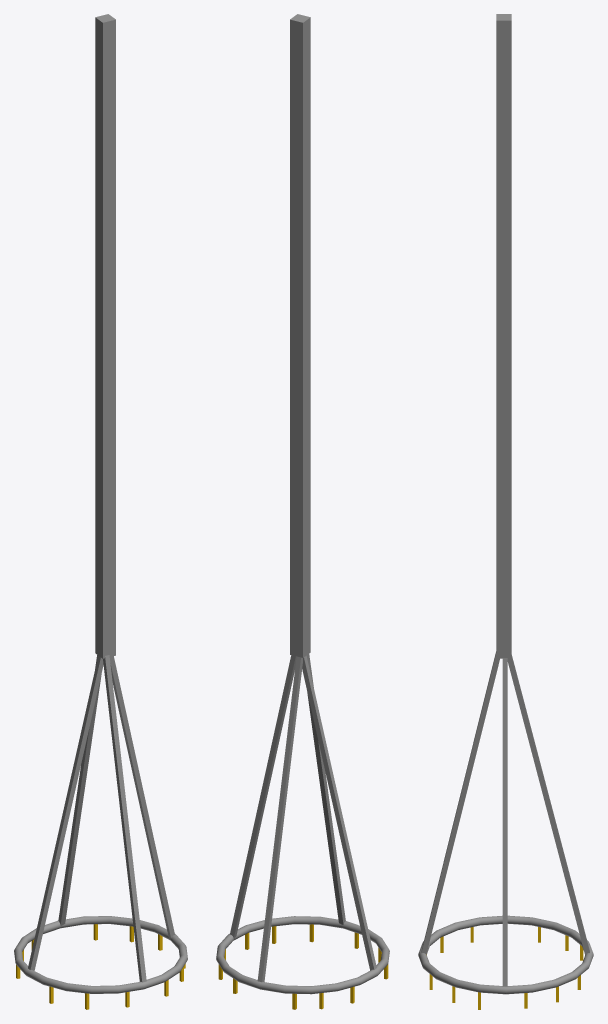
The model's file is SM_Chandelier.fbx.
3 renders of one model, left to right at view 1: azimuth 30°, elevation 25°; view 2: azimuth 150°, elevation 25°; view 3: azimuth 270°, elevation 25°, orthographic.
Parts seen in each view (by area): view 1: Chandelier; view 2: Chandelier; view 3: Chandelier.
Part boxes in pixels (<box>): Chandelier: <box>14,14,187,1009</box>; Chandelier: <box>216,14,389,1009</box>; Chandelier: <box>418,14,593,1009</box>.
Size of the model in its own units: 266 by 1607 by 266.
